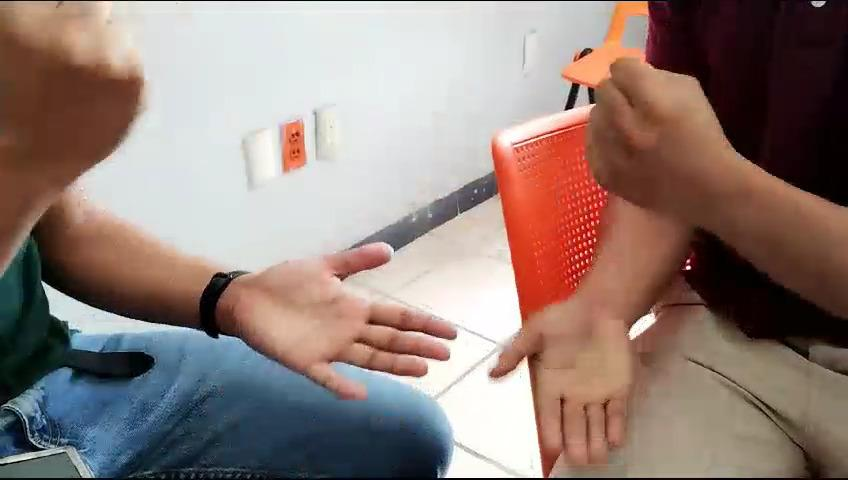Paper: (187, 206, 478, 445), (488, 299, 669, 475)
Stone: (540, 64, 741, 224)
